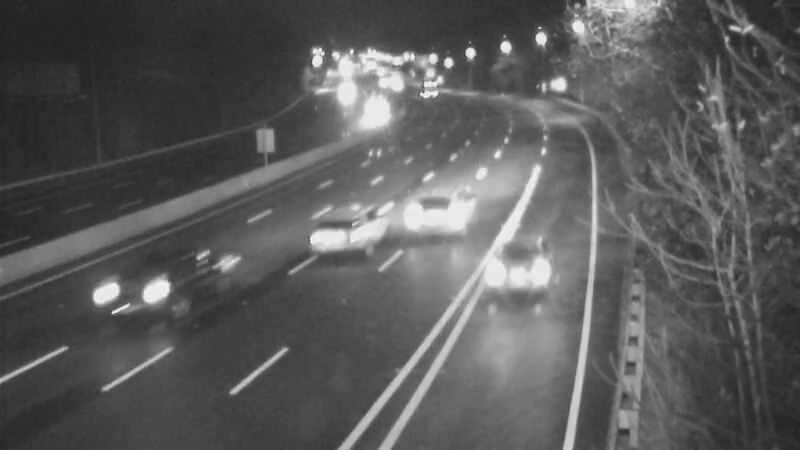vehicle: (399, 174, 479, 254), (471, 227, 551, 307), (299, 196, 379, 276), (92, 252, 172, 332), (400, 69, 450, 119), (351, 88, 401, 138), (320, 64, 370, 114)
